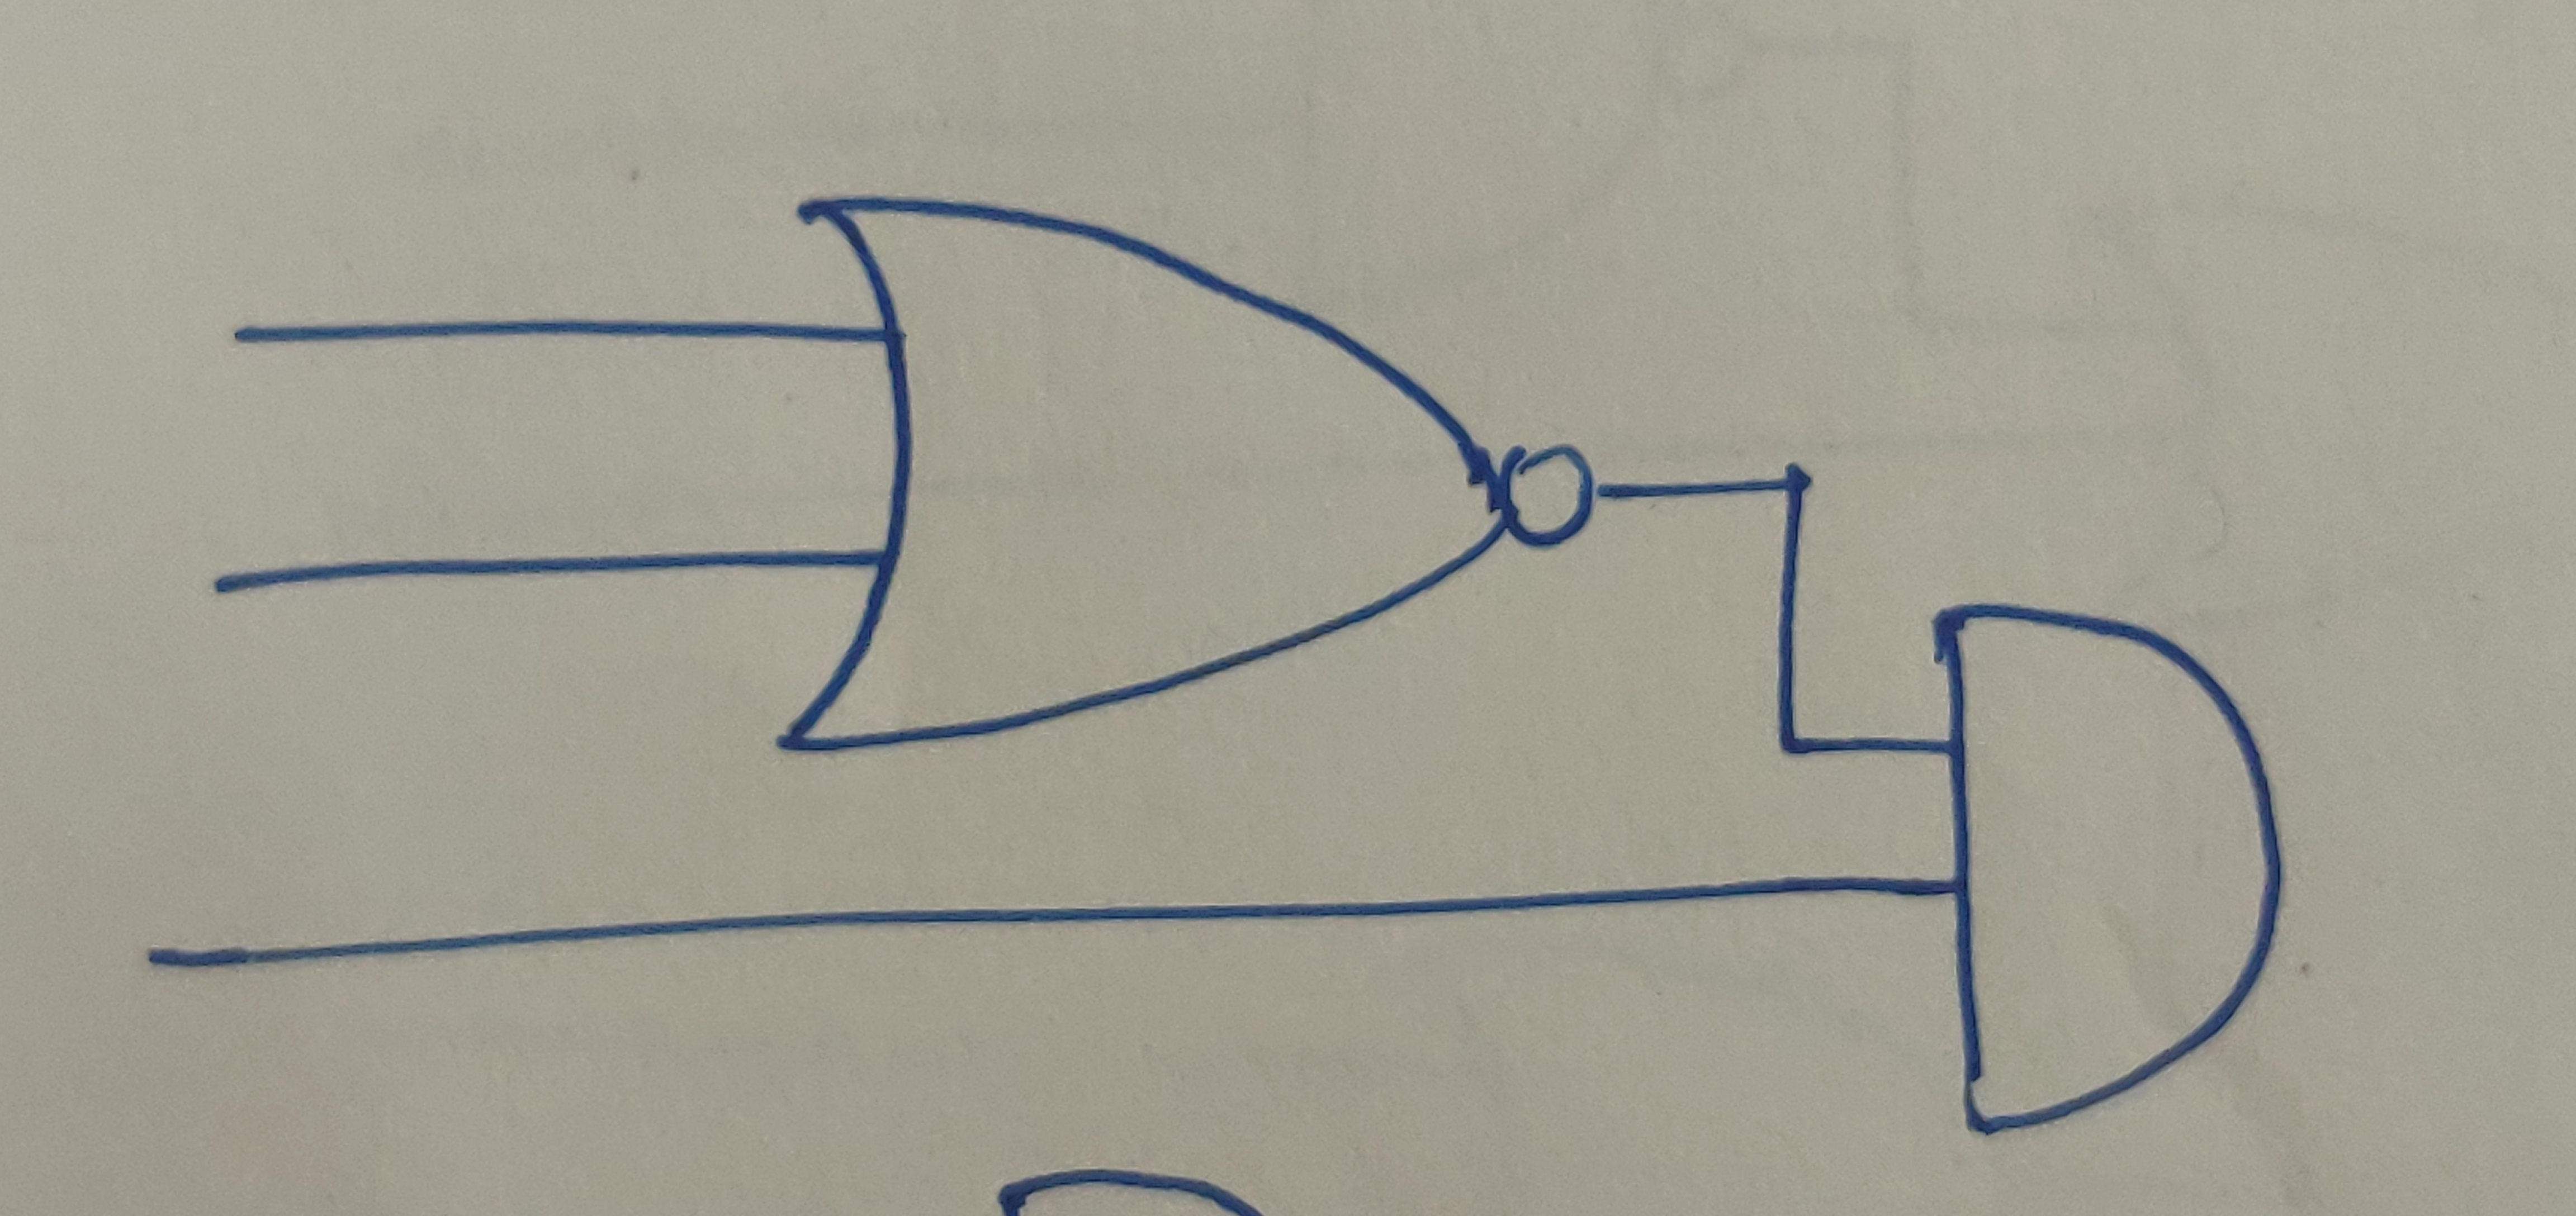and: (1929, 595, 2287, 1134)
not: (1505, 440, 1590, 549)
or: (784, 187, 1508, 762)
